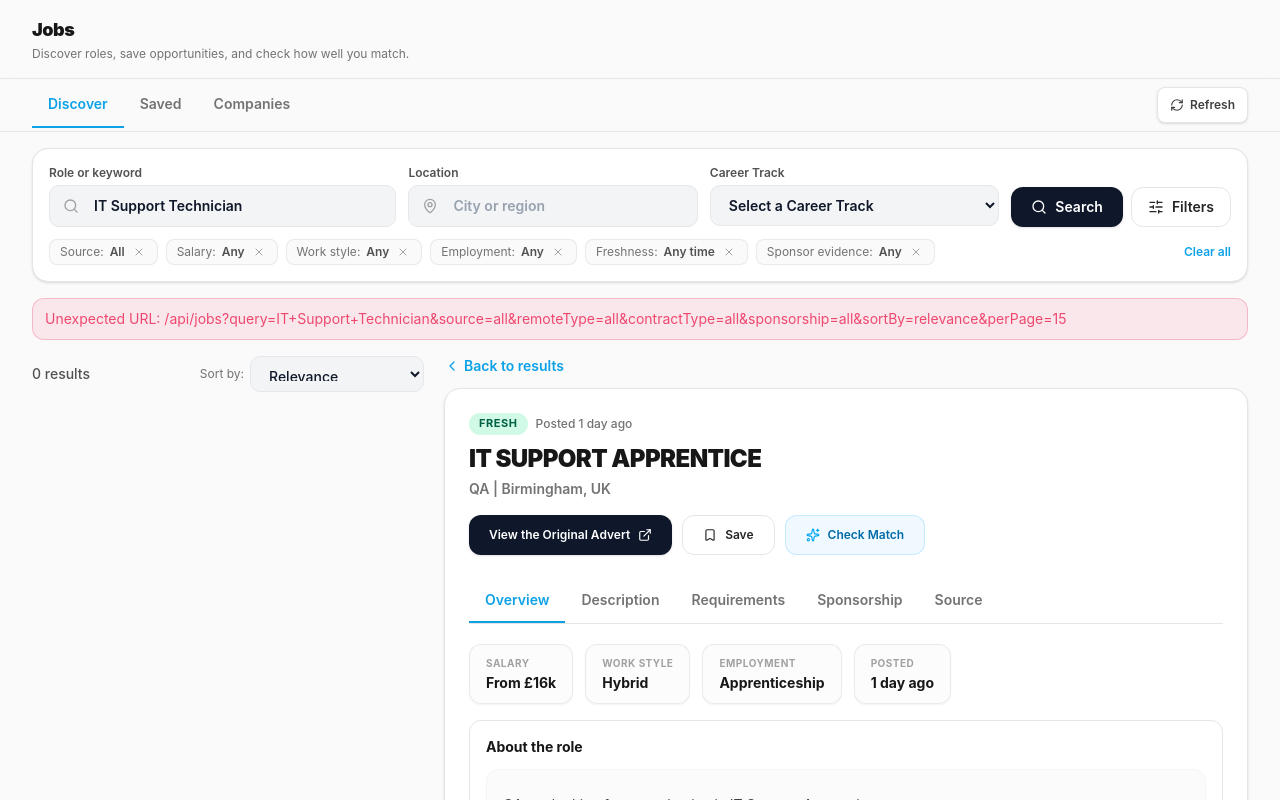
Test: redesigned vacancy details › moves between detail tabs and opens Check Match modal from Check Match
Check: the heading "IT Support Apprentice" is shown, box [469, 444, 761, 473]
Click the tab "Requirements" at [738, 601], box [676, 579, 801, 623]
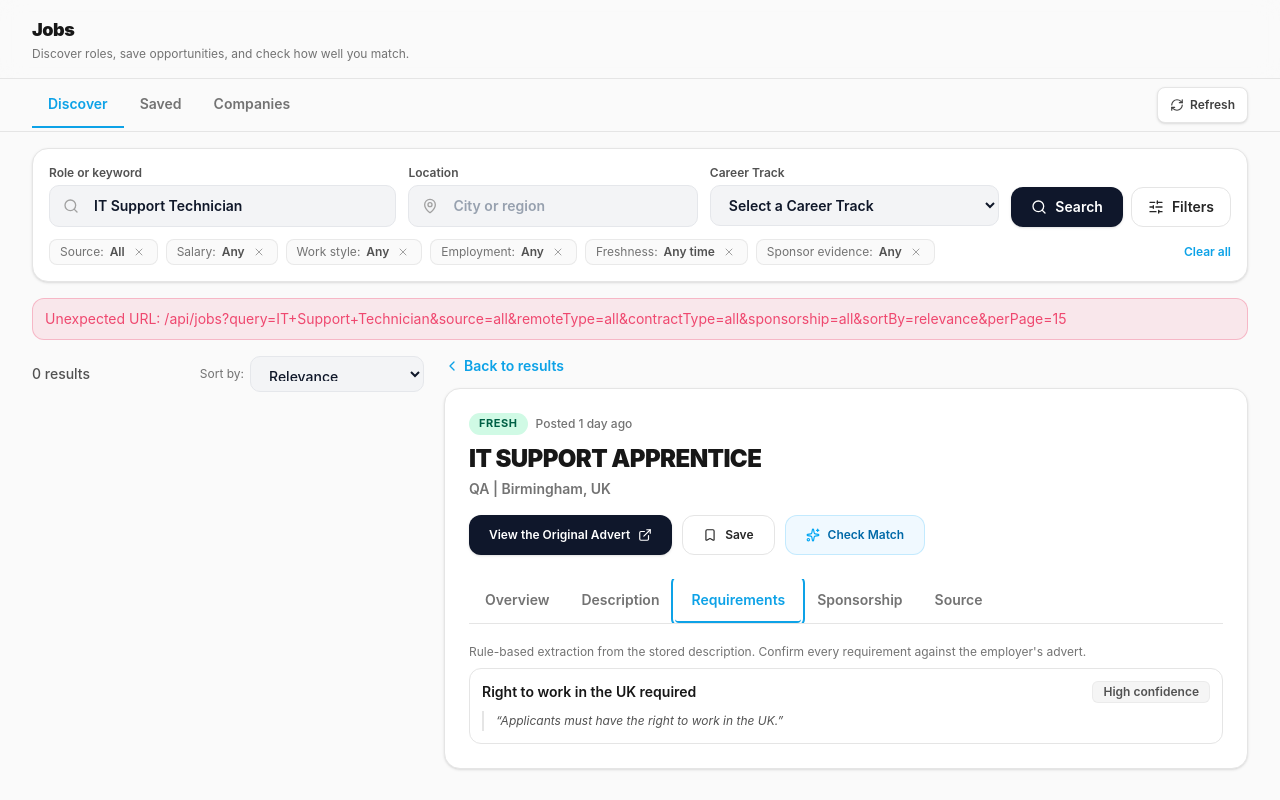
Check: the text "“Applicants must have the right to work in the UK.”" is shown, box [482, 711, 1210, 731]
Click the button "Check Match" at [855, 535], box [784, 515, 925, 555]
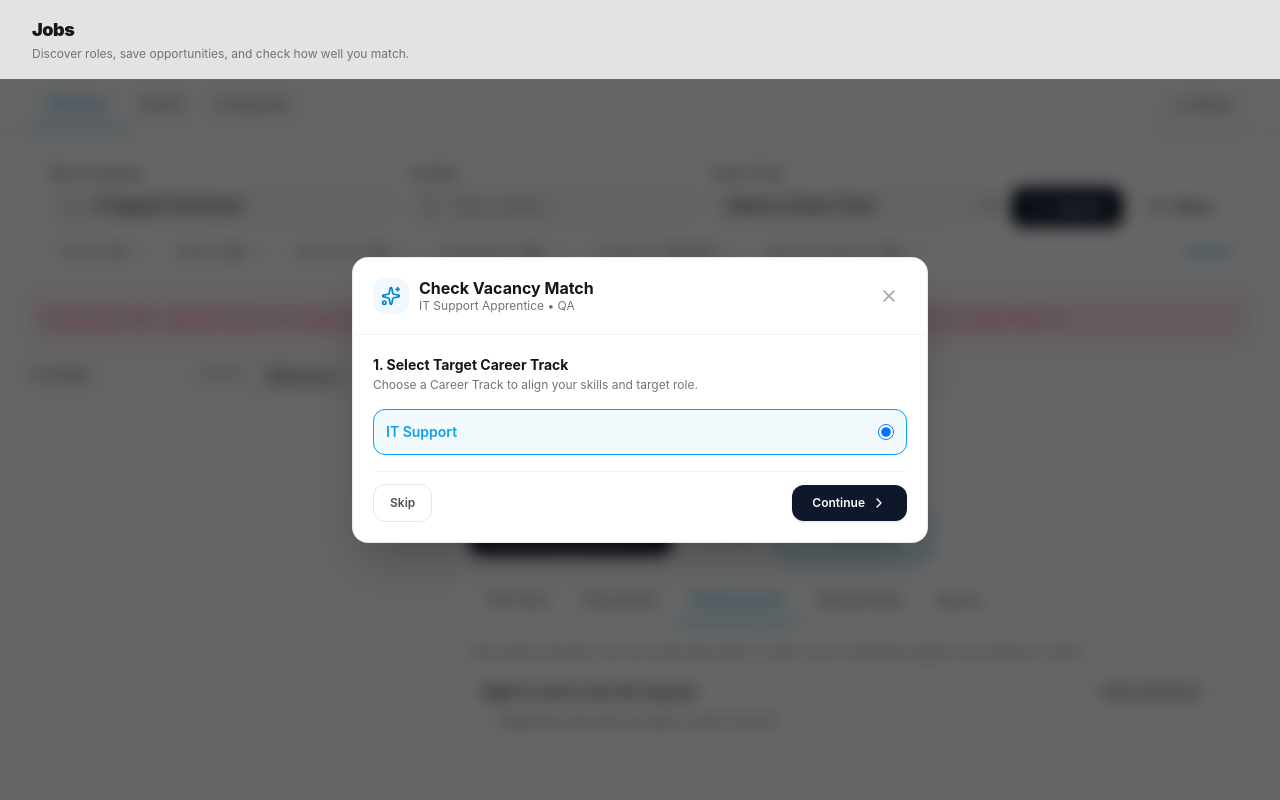
Check: the dialog "Check Vacancy Match" is shown
